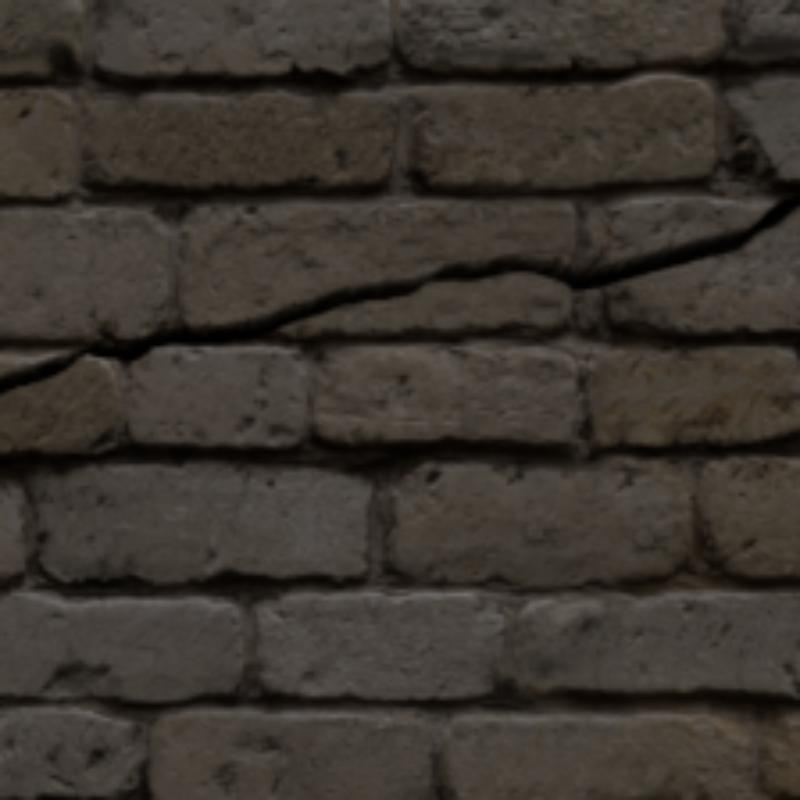crack: (0, 195, 796, 395)
